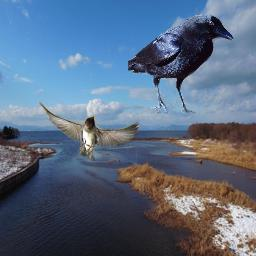Crow: (128, 14, 234, 116)
Swallow: (37, 100, 141, 162)
